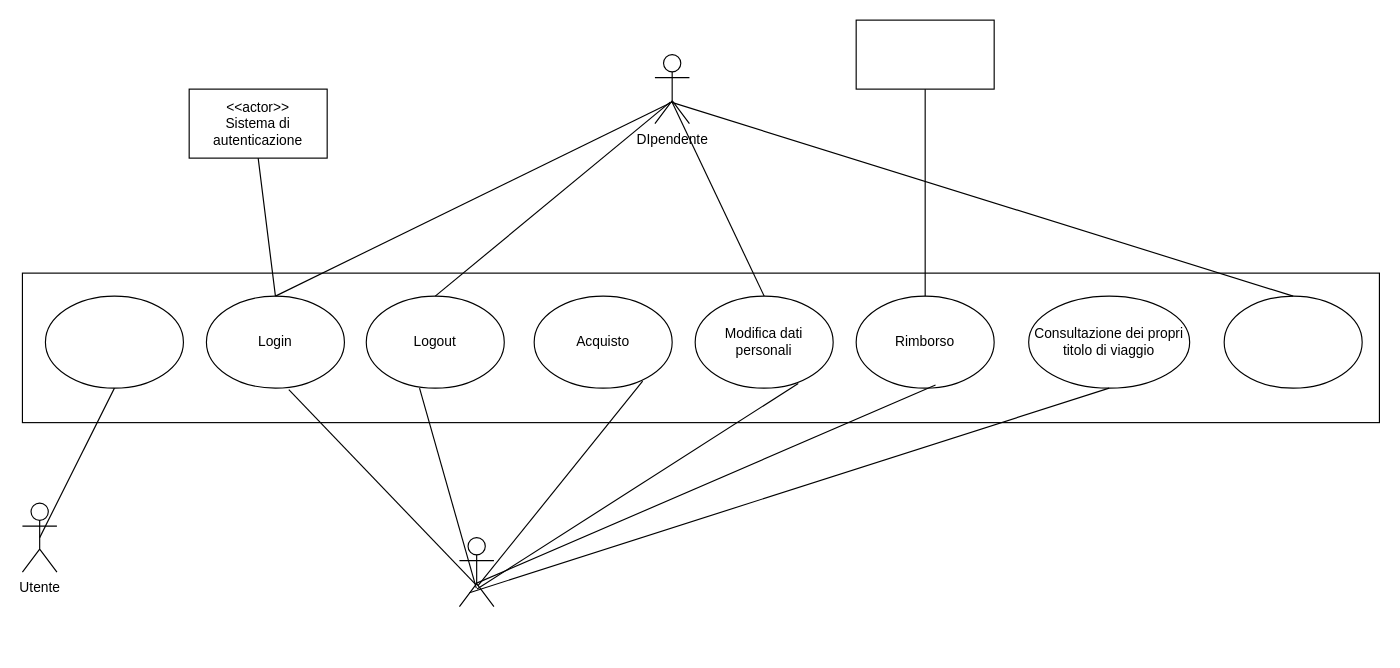
The diagram is 1400 pixels wide and 668 high, and some of its shapes have lost their labels. Here are the shapes that lost their labels. From the top down, the centre of each, then its label:
At point (924, 54): "<<actor>> Sistema di rimborso".
At point (113, 341): "Registrazione".
At point (1292, 341): "Controllo titoli di viaggio".
At point (476, 571): "Cliente".
